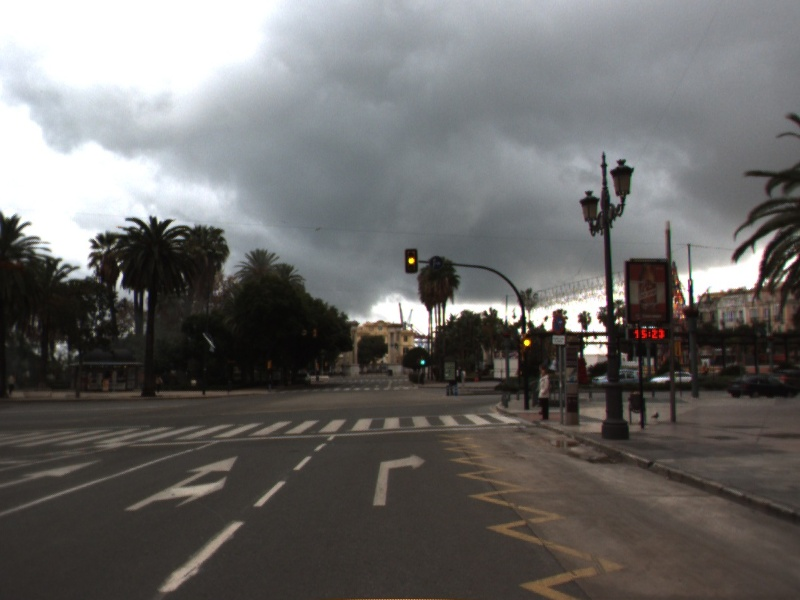RIGHT: (370, 450, 429, 508)
STRAIGHT: (1, 457, 105, 488)
STRAIGHT_RIGHT: (121, 453, 241, 514)
